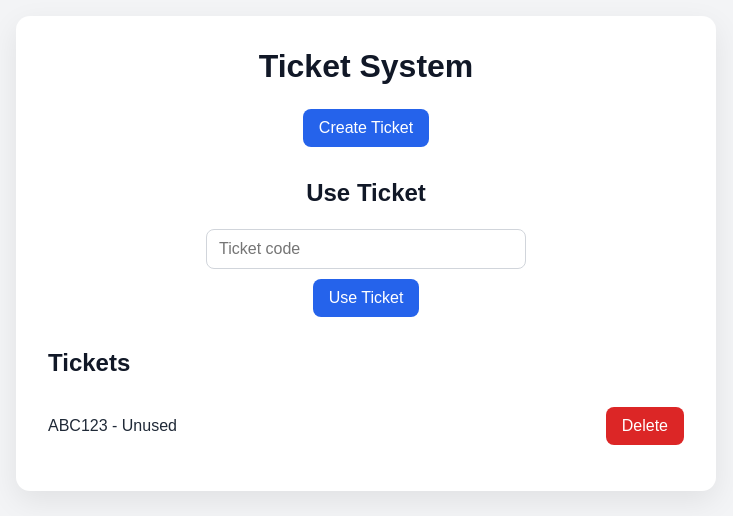
Scenario: updates the ticket status to used after using a ticket
Type "ABC123" into the field with placeholder "Ticket code" at (366, 249), box [206,229,526,269]
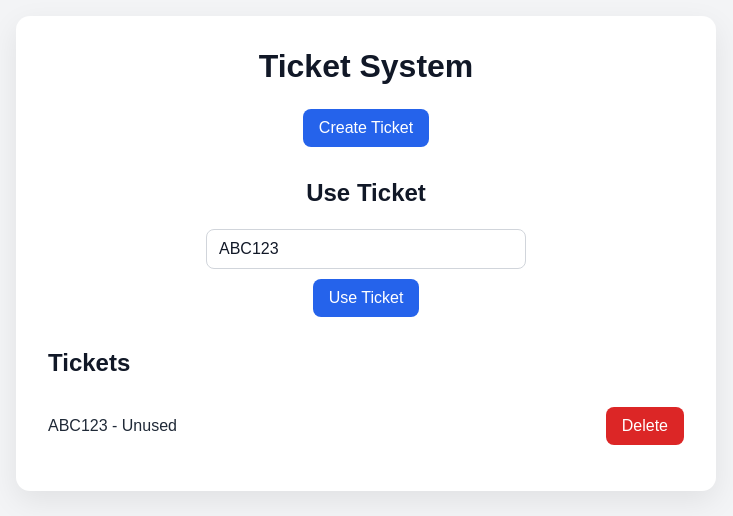
Click the button with test id "use-ticket-button" at (366, 298), box [313,279,419,317]
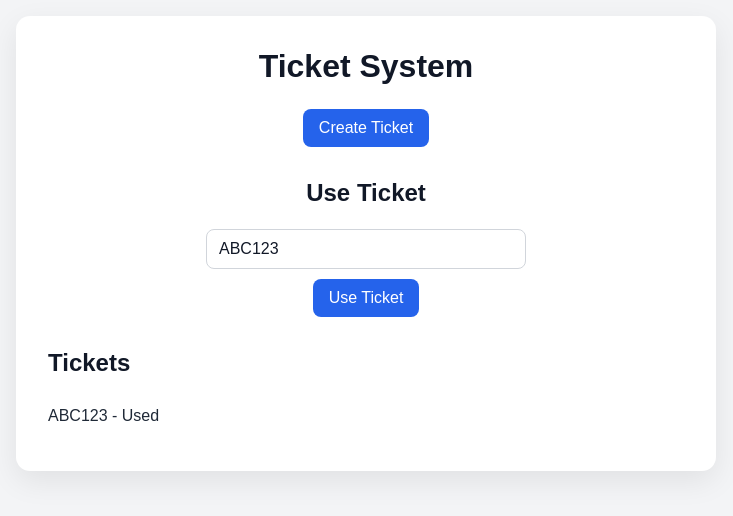
Check: the text "ABC123 - Used" is shown, box [48,407,159,424]
